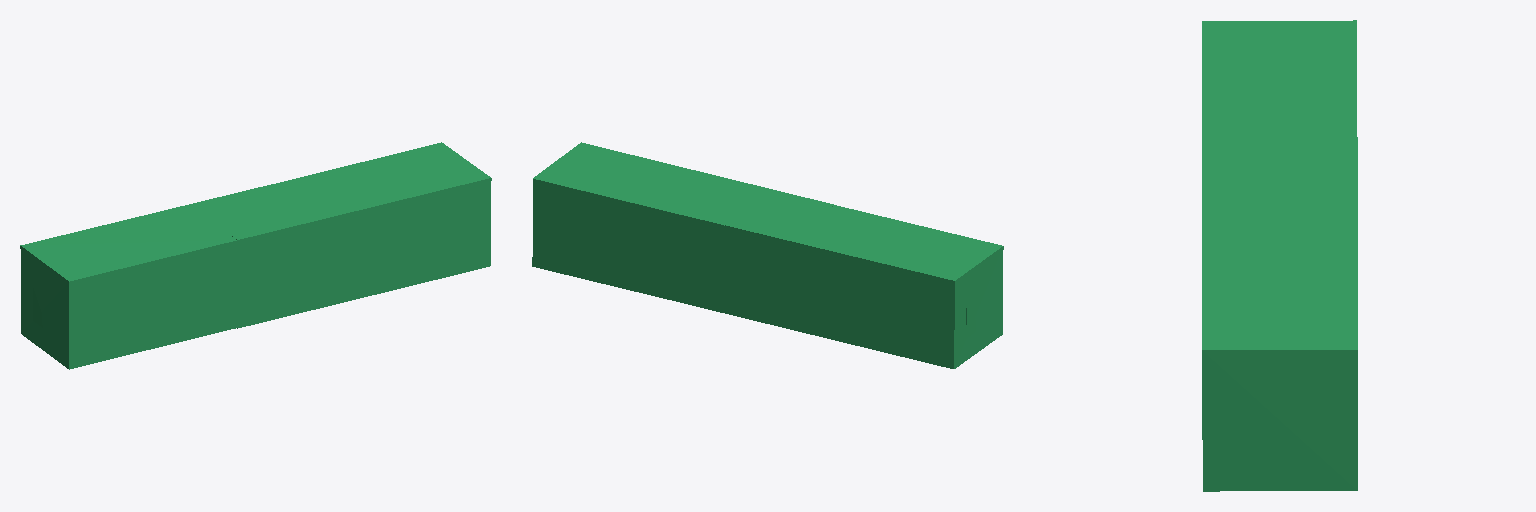
URDF robot description (procedural_obj_0006):
<?xml version="0.0" ?>
<!-- based on data/cube.urdf -->
<robot name="procedural_obj_0006">
  <link name="procedural_obj_0006">
    <contact>
      <lateral_friction value="1.0"/>
      <rolling_friction value="0.0"/>
      <contact_cfm value="0.0"/>
      <contact_erp value="1.0"/>
    </contact>
    <inertial>
      <origin rpy="0 0 0" xyz="0 0 0"/>
       <mass value="1.0"/>
       <inertia ixx="1" ixy="0" ixz="0" iyy="1" iyz="0" izz="1"/>
    </inertial>
    <visual>
      <origin rpy="0 0 0" xyz="0 0 0"/>
      <geometry>
	<mesh filename="0006.obj" scale="1 1 1"/>
      </geometry>
       <material name="random_colour">
        <color rgba="0.247 0.679 0.432 1"/>
      </material>
    </visual>
    <collision>
      <origin rpy="0 0 0" xyz="0 0 0"/>
      <geometry>
	<mesh filename="0006.vhacd.obj" scale="1 1 1"/>
      </geometry>
    </collision>
  </link>
</robot>

--- What the picture shows (computed from the rendered views, not written in the file) ---
Views: 3 orthographic renders of the robot side by side, from view 1: azimuth 30°, elevation 25°; view 2: azimuth 150°, elevation 25°; view 3: azimuth 270°, elevation 25°.
Model procedural_obj_0006 with 1 links and 0 joints (none), rooted at procedural_obj_0006, posed all joints at 0.
Visible links, largest first — view 1: procedural_obj_0006; view 2: procedural_obj_0006; view 3: procedural_obj_0006.
Boxes of the visible links, bbox=[...] form: procedural_obj_0006: bbox=[20, 142, 491, 369]; procedural_obj_0006: bbox=[532, 142, 1003, 368]; procedural_obj_0006: bbox=[1202, 20, 1357, 491].
Size in the robot's own frame: 0.1501 by 0.0302 by 0.0302 metres.
1 mesh visuals loaded from 1 distinct referenced files (1 OBJ).